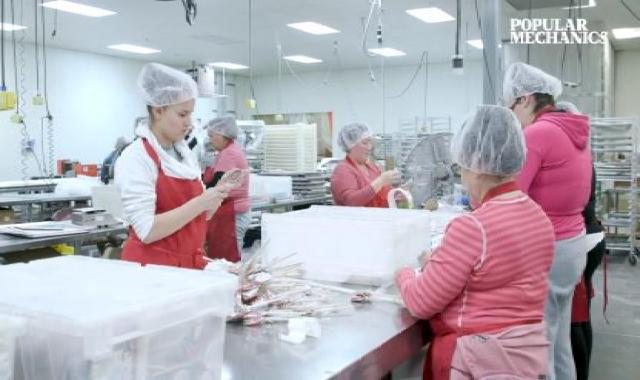hairnet: (452, 104, 518, 181), (500, 61, 572, 113), (138, 55, 197, 117), (335, 116, 371, 154), (211, 114, 239, 149)
